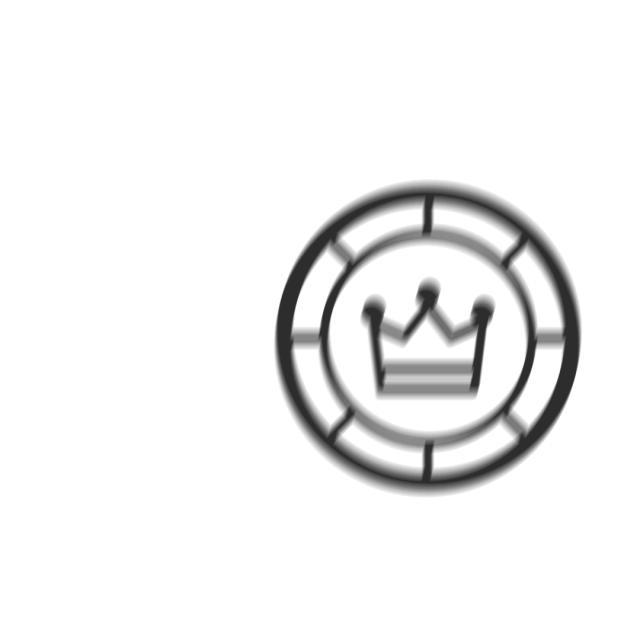coin: (270, 172, 586, 510)
